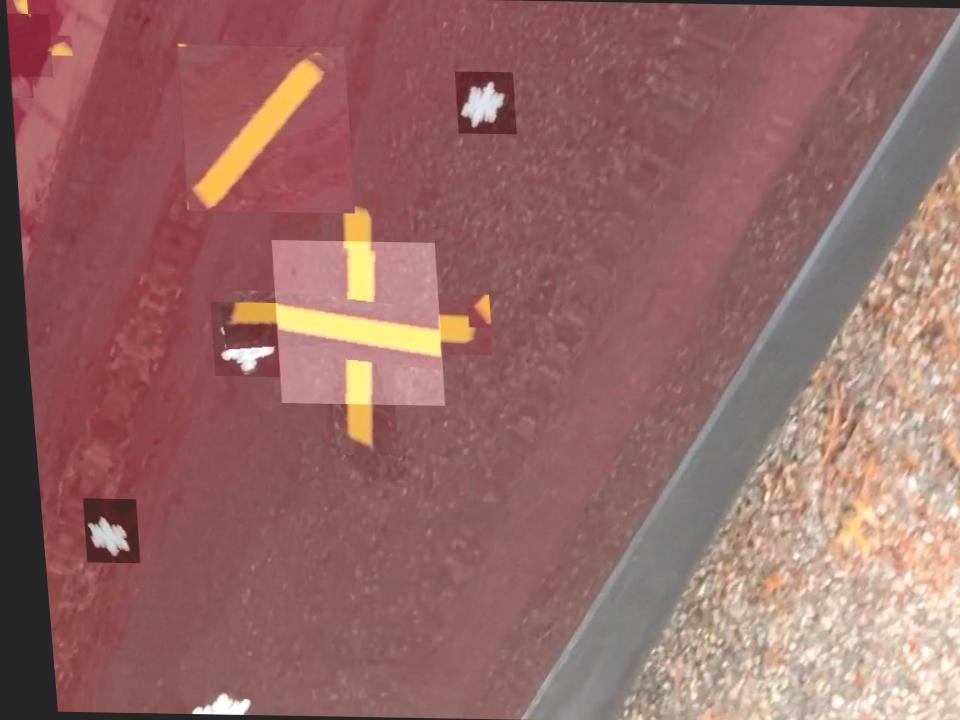dent: (204, 302, 284, 377), (454, 70, 517, 134), (73, 498, 132, 562)
scratch: (175, 44, 355, 213), (265, 240, 441, 406), (6, 13, 53, 78)
